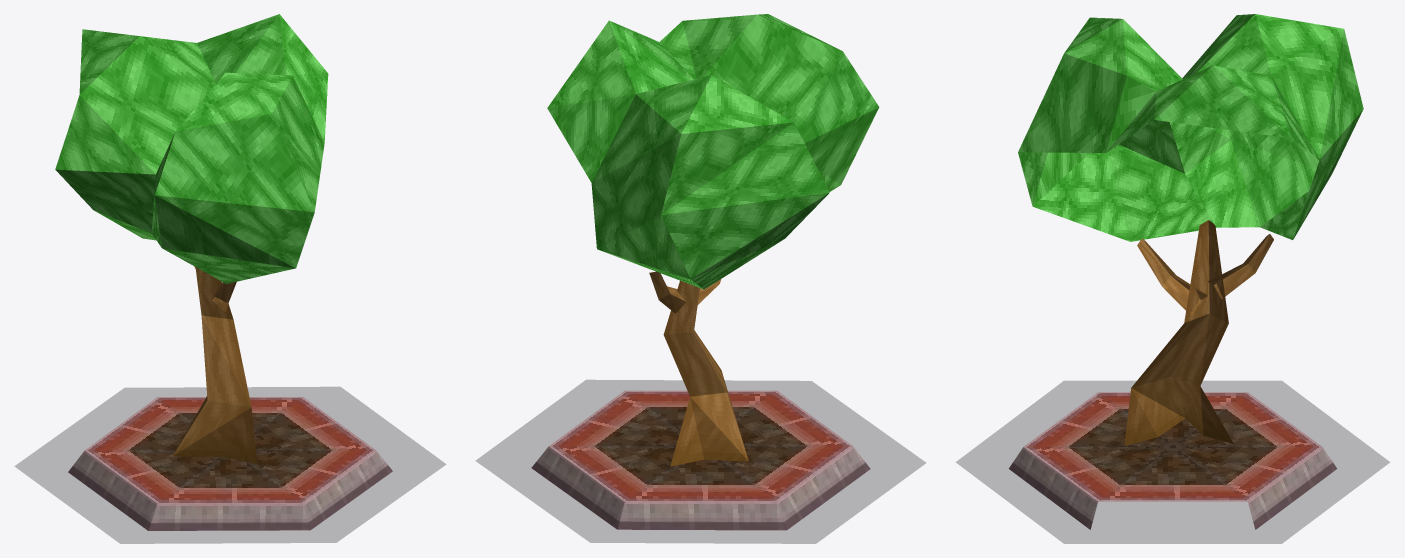
Rendered from 3Y9DDHFJ97O2FL0RYPTVE4PRE.fbx.
The picture shows the model from 3 angles, left to right: view 1: azimuth 30°, elevation 25°; view 2: azimuth 150°, elevation 25°; view 3: azimuth 270°, elevation 25°; orthographic projection. The views are drawn at different scales.
Parts seen in each view (by area): view 1: Object_Material4320.jpg, Object_Material4361.jpg, Object_Material4360.jpg, Object_Material4334.jpg; view 2: Object_Material4320.jpg, Object_Material4361.jpg, Object_Material4360.jpg, Object_Material4334.jpg; view 3: Object_Material4320.jpg, Object_Material4361.jpg, Object_Material4360.jpg, Object_Material4334.jpg.
Part boxes in pixels (x1,y1,x2,y2): Object_Material4320.jpg: [55, 14, 328, 283]; Object_Material4361.jpg: [68, 397, 392, 530]; Object_Material4360.jpg: [15, 387, 445, 543]; Object_Material4334.jpg: [173, 266, 257, 464]; Object_Material4320.jpg: [547, 14, 879, 289]; Object_Material4361.jpg: [531, 390, 870, 530]; Object_Material4360.jpg: [476, 380, 925, 543]; Object_Material4334.jpg: [649, 271, 748, 466]; Object_Material4320.jpg: [1018, 14, 1363, 241]; Object_Material4361.jpg: [1009, 392, 1336, 529]; Object_Material4360.jpg: [956, 381, 1389, 543]; Object_Material4334.jpg: [1124, 220, 1273, 445].
Bounding box in the file's own units: 2 × 2.5 × 2.25.
